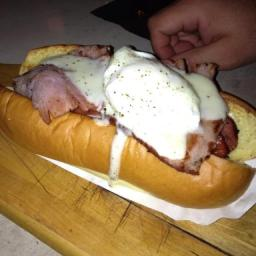hotdog: (207, 115, 243, 166)
